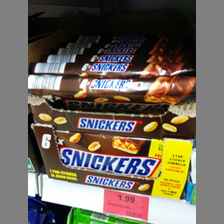chocolate: (28, 73, 196, 114), (52, 130, 164, 178), (29, 61, 195, 75)
